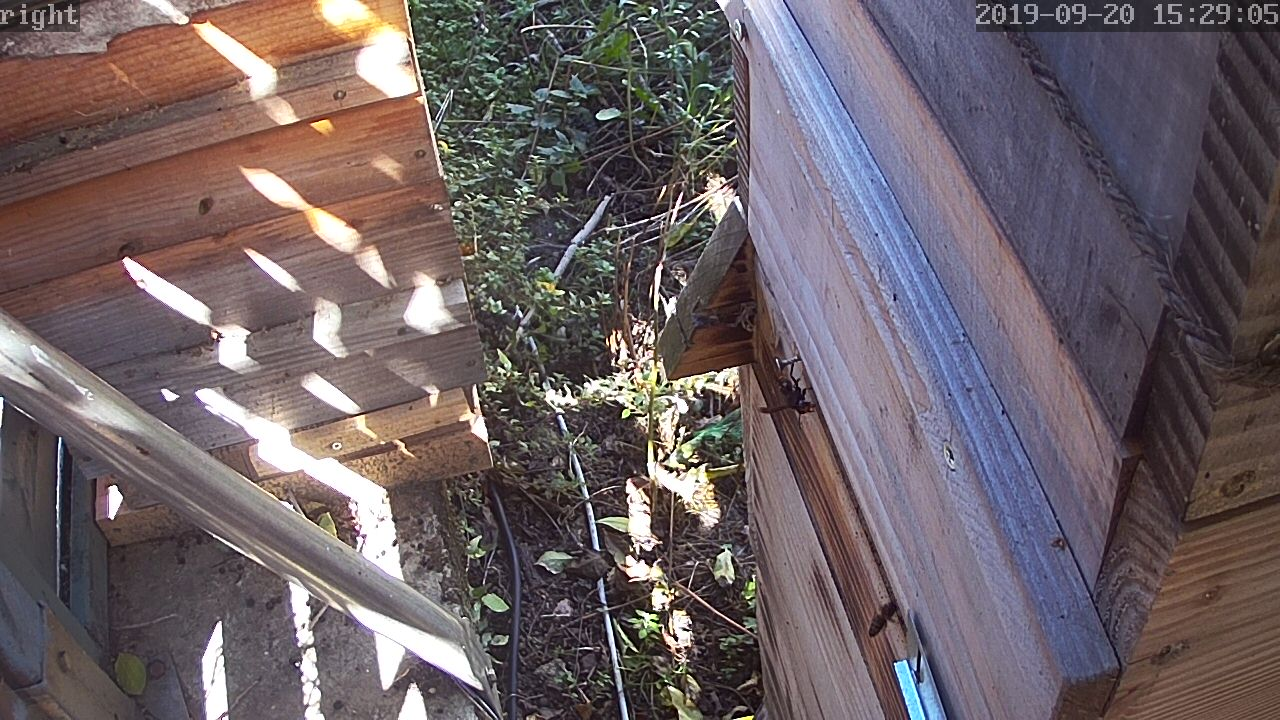bee: (867, 593, 901, 642)
hornet: (767, 364, 819, 424)
